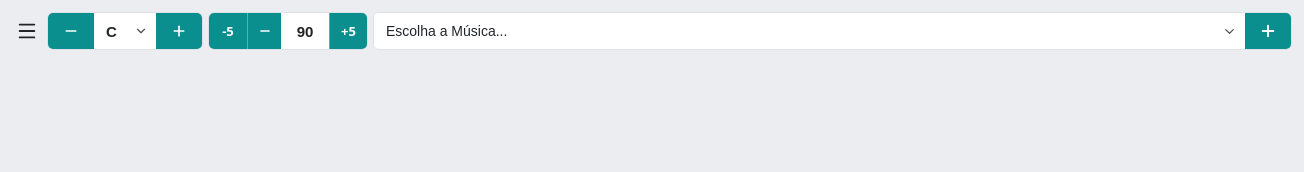
Tom › deve expandir os botões de ação (+, Editar, Excluir) ao clicar no botão de ações
The image size is (1304, 172).
Click the button titled "Ações": {"x": 1268, "y": 31} [1245,13,1291,49]
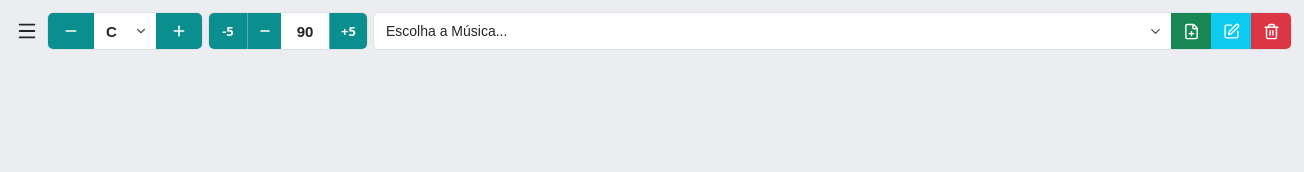
Expected: the button with class "btn-add" is shown, [1171,13,1211,49]
Expected: the button with class "btn-edit" is shown, [1211,13,1251,49]
Expected: the button with class "btn-delete" is shown, [1251,13,1291,49]
